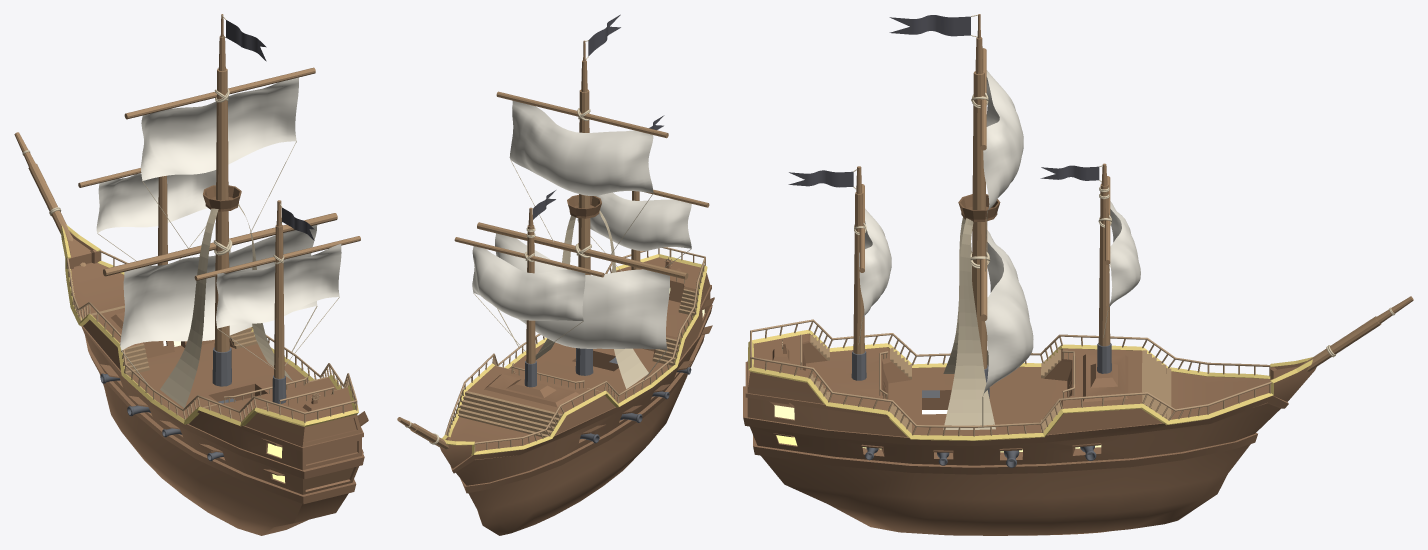
The model's file is pirate_ship.glb.
3 views of the same model, side by side, from view 1: azimuth 30°, elevation 25°; view 2: azimuth 150°, elevation 25°; view 3: azimuth 270°, elevation 25° (orthographic). The views are drawn at different scales.
Parts seen in each view (by area): view 1: Ship Body, Sails, Masts, Trim, Plane.001, Railings.004, Railings.006, Stairs, Flags, Crows Nest, Plane, Ropes (+1 smaller); view 2: Sails, Ship Body, Masts, Stairs, Trim, Railings.004, Plane.001, Railings.006, Flags, Crows Nest, Plane, Ropes (+1 smaller); view 3: Ship Body, Sails, Masts, Trim, Plane, Stairs, Railings.004, Flags, Railings.006.
Part boxes in pixels (left/top/right/bottom): Ship Body: left=65, top=232, right=368, bottom=535; Sails: left=96, top=77, right=341, bottom=350; Masts: left=14, top=14, right=360, bottom=403; Trim: left=60, top=224, right=358, bottom=426; Plane.001: left=160, top=208, right=218, bottom=407; Railings.004: left=66, top=250, right=357, bottom=414; Railings.006: left=67, top=252, right=357, bottom=422; Stairs: left=90, top=305, right=347, bottom=408; Flags: left=226, top=20, right=314, bottom=240; Crows Nest: left=203, top=185, right=241, bottom=211; Plane: left=238, top=203, right=292, bottom=380; Ropes: left=97, top=141, right=339, bottom=384; Sails: left=472, top=101, right=691, bottom=349; Ship Body: left=440, top=257, right=714, bottom=535; Masts: left=397, top=40, right=709, bottom=449; Stairs: left=458, top=289, right=697, bottom=437; Trim: left=441, top=254, right=707, bottom=455; Railings.004: left=445, top=247, right=705, bottom=444; Plane.001: left=599, top=210, right=648, bottom=388; Railings.006: left=446, top=248, right=705, bottom=452; Flags: left=533, top=14, right=664, bottom=219; Crows Nest: left=567, top=195, right=601, bottom=218; Plane: left=535, top=215, right=575, bottom=359; Ropes: left=473, top=160, right=691, bottom=379; Ship Body: left=743, top=333, right=1316, bottom=535; Sails: left=859, top=70, right=1140, bottom=395; Masts: left=851, top=14, right=1413, bottom=398; Trim: left=748, top=329, right=1312, bottom=440; Plane: left=943, top=218, right=995, bottom=429; Stairs: left=810, top=334, right=1171, bottom=433; Railings.004: left=750, top=319, right=1271, bottom=427; Flags: left=788, top=15, right=1099, bottom=187; Railings.006: left=750, top=321, right=1270, bottom=436.
Size of the model in its own units: 5.83 by 11.83 by 13.89.
